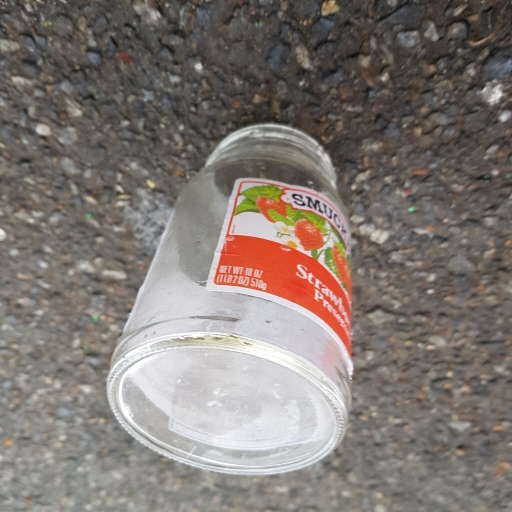Glass_5: (100, 118, 354, 473)
